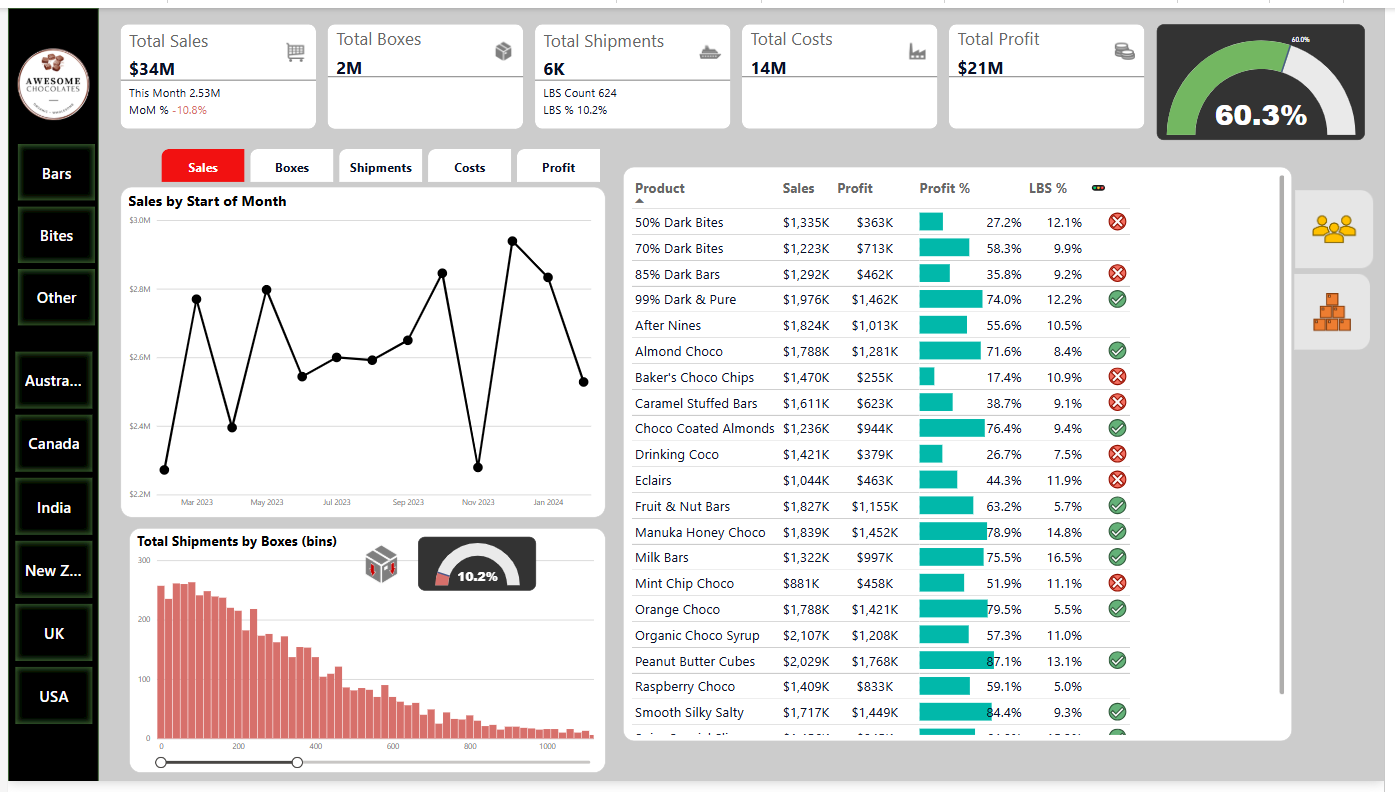

The dashboard page shown, as its layout file describes it:
{"tool":"powerbi","page":{"name":"Sales Report","canvas":[1920,1080],"ordinal":2},"visuals":[{"type":"shape","box":[0,0,126.7,1080],"z":0},{"type":"cardVisual","fields":{"Data":["_measures.Total Sales","_measures.Total Boxes","_measures.Total Shipments","_measures.Total Costs","_measures.Total Profit"]},"box":[156.6,22.8,1432,146.8],"z":1000},{"type":"gauge","fields":{"Y":["_measures.Profit %"]},"box":[1603.3,23.3,290,161.7],"z":2000},{"type":"image","box":[8.3,43.3,110,125],"z":3000},{"type":"lineChart","fields":{"Y":["_measures.Total Sales"],"Category":["calendar.Start of Month"]},"box":[156.7,250,676.7,461.7],"z":4000},{"type":"advancedSlicerVisual","fields":{"Values":["Measure Selector.Measure Selector"]},"box":[210,191.7,623.3,56.7],"z":5000},{"type":"clusteredColumnChart","fields":{"Category":["shipments.Boxes (bins)"],"Y":["_measures.Total Shipments"]},"box":[168.3,725,665,341.7],"z":6000},{"type":"gauge","fields":{"Y":["_measures.LBS %"]},"box":[571.7,738.3,165,75],"z":7000},{"type":"tableEx","title":"Product Table","fields":{"Values":["shipments.Product","_measures.Total Sales","_measures.Total Profit","_measures.Profit %","_measures.LBS %","_measures.Profit Target Indicator"]},"box":[858.3,221.7,933.3,801.7],"z":9000},{"type":"image","box":[471.7,740,100,73.3],"z":10000},{"type":"advancedSlicerVisual","fields":{"Values":["products.Category"]},"box":[8.3,185,118.3,265],"z":11000},{"type":"advancedSlicerVisual","fields":{"Values":["shipments.Geography"]},"box":[5,475,118.3,531.7],"z":12000},{"type":"image","box":[1791.7,250,118.3,118.3],"z":13000},{"type":"image","title":"Product","box":[1786.7,366.7,123.3,115],"z":14000}]}

Visuals, with their boxes in screenshot pixels (x1, y1, x2, y2), scaled from the page's 1920x1080 canvas onto the 1395x792 screenshot:
shape: [0,0,92,791]
cardVisual - _measures.Total Sales x _measures.Total Boxes: [114,17,1154,124]
gauge - _measures.Profit %: [1165,17,1376,136]
image: [6,32,86,123]
lineChart - _measures.Total Sales x calendar.Start of Month: [114,183,606,522]
advancedSlicerVisual - Measure Selector.Measure Selector: [153,141,605,182]
clusteredColumnChart - shipments.Boxes (bins) x _measures.Total Shipments: [122,532,605,782]
gauge - _measures.LBS %: [415,541,535,596]
"Product Table" tableEx: [624,163,1302,750]
image: [343,543,415,596]
advancedSlicerVisual - products.Category: [6,136,92,330]
advancedSlicerVisual - shipments.Geography: [4,348,90,738]
image: [1302,183,1388,270]
"Product" image: [1298,269,1388,353]
